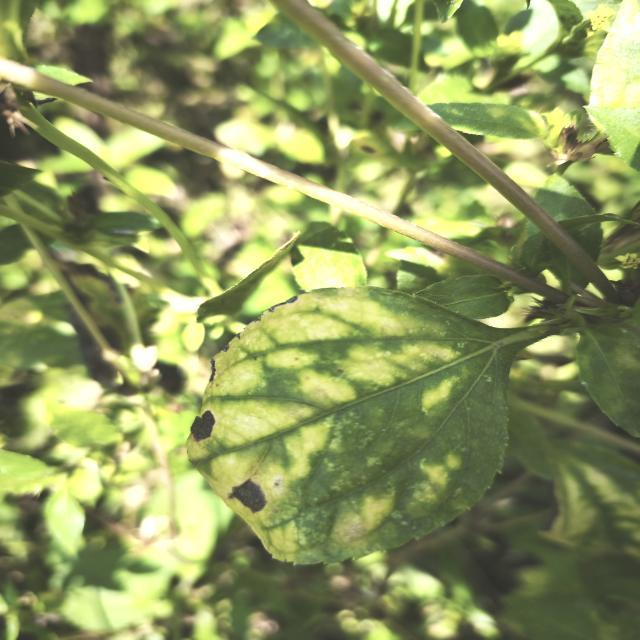Virus Kuning: (184, 284, 516, 566)
